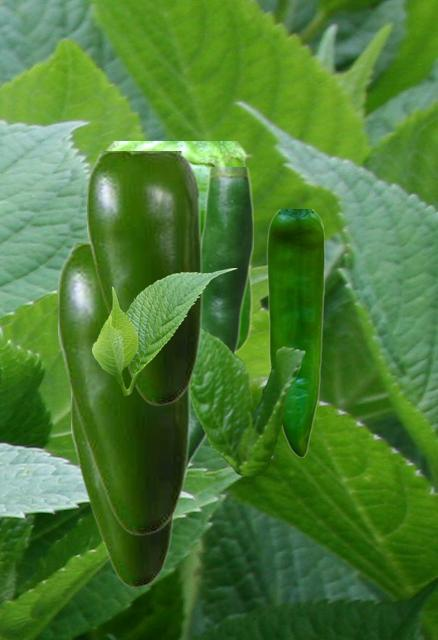green_chili: (58, 243, 189, 535), (103, 141, 251, 354), (87, 151, 201, 405), (187, 167, 252, 477), (71, 397, 173, 587), (266, 209, 324, 456)
